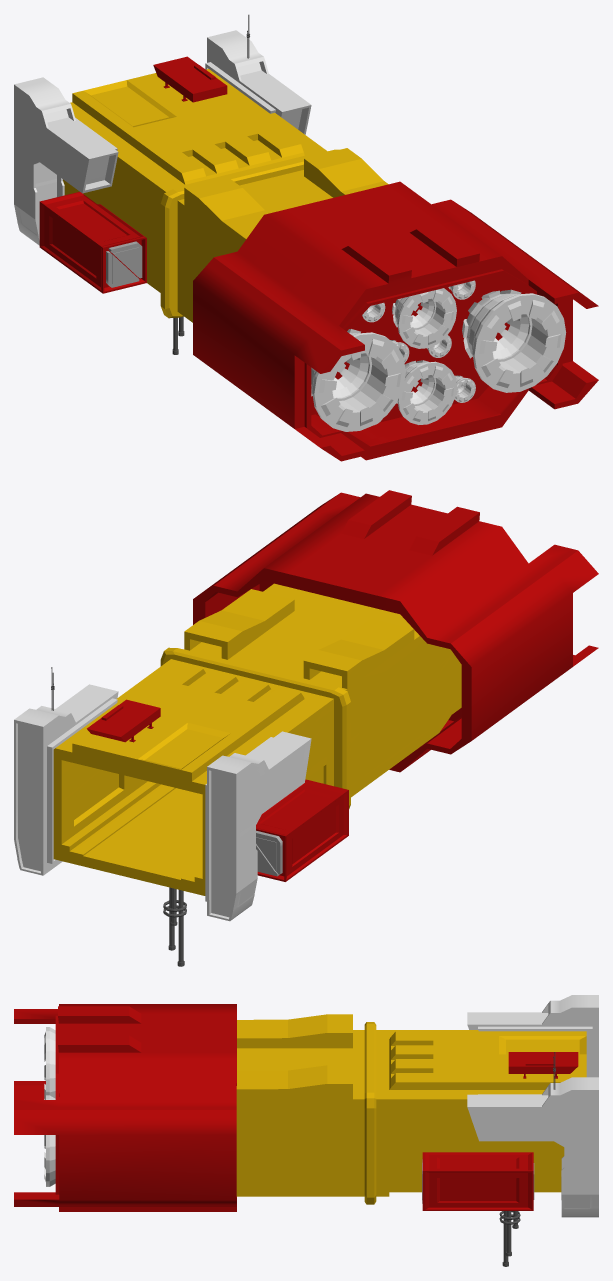
The model's file is Station Hull Piece WIP.fbx.
3 views of the same model, one above another, from view 1: azimuth 30°, elevation 25°; view 2: azimuth 150°, elevation 25°; view 3: azimuth 270°, elevation 25° (orthographic). The views are drawn at different scales.
Visible parts, largest first — view 1: Back_Thruster_Base, Station_Hull_Base, Front_Attachment_2, Engine_2, Engine_1, Cargo_Container, Front_Attachment_1, Engine_3, Engine_4, Top_Cubey_Thingy, pCube2, pCube1; view 2: Station_Hull_Base, Back_Thruster_Base, Front_Attachment_2, Front_Attachment_1, Cargo_Container, Top_Cubey_Thingy, pCube1; view 3: Station_Hull_Base, Back_Thruster_Base, Front_Attachment_1, Cargo_Container, Front_Attachment_2, Top_Cubey_Thingy, Engine_1, Engine_2.
Part boxes in pixels (box(x1,y1,x2,y2)): Back_Thruster_Base: box(193, 181, 598, 461); Station_Hull_Base: box(63, 69, 388, 322); Front_Attachment_2: box(14, 77, 118, 245); Engine_2: box(462, 289, 566, 392); Engine_1: box(311, 329, 405, 431); Cargo_Container: box(39, 191, 146, 293); Front_Attachment_1: box(205, 30, 311, 134); Engine_3: box(396, 360, 456, 424); Engine_4: box(392, 288, 456, 348); Top_Cubey_Thingy: box(153, 56, 227, 102); pCube2: box(108, 241, 142, 278); pCube1: box(106, 251, 139, 287); Station_Hull_Base: box(53, 583, 461, 895); Back_Thruster_Base: box(193, 490, 598, 772); Front_Attachment_2: box(205, 731, 311, 921); Front_Attachment_1: box(14, 684, 118, 875); Cargo_Container: box(256, 779, 348, 881); Top_Cubey_Thingy: box(87, 699, 160, 742); pCube1: box(256, 830, 282, 874); Station_Hull_Base: box(236, 1014, 586, 1204); Back_Thruster_Base: box(14, 1004, 236, 1211); Front_Attachment_1: box(467, 1077, 598, 1217); Cargo_Container: box(422, 1152, 533, 1210); Front_Attachment_2: box(467, 995, 598, 1077); Top_Cubey_Thingy: box(508, 1052, 578, 1078); Engine_1: box(44, 1027, 55, 1099); Engine_2: box(44, 1095, 55, 1186).
Bounding box in the file's own units: 34.2 × 34.47 × 71.14.
